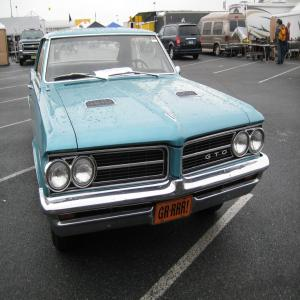Vehicle-registration-plate: (158, 204, 192, 227), (32, 56, 37, 59), (190, 41, 194, 44)
